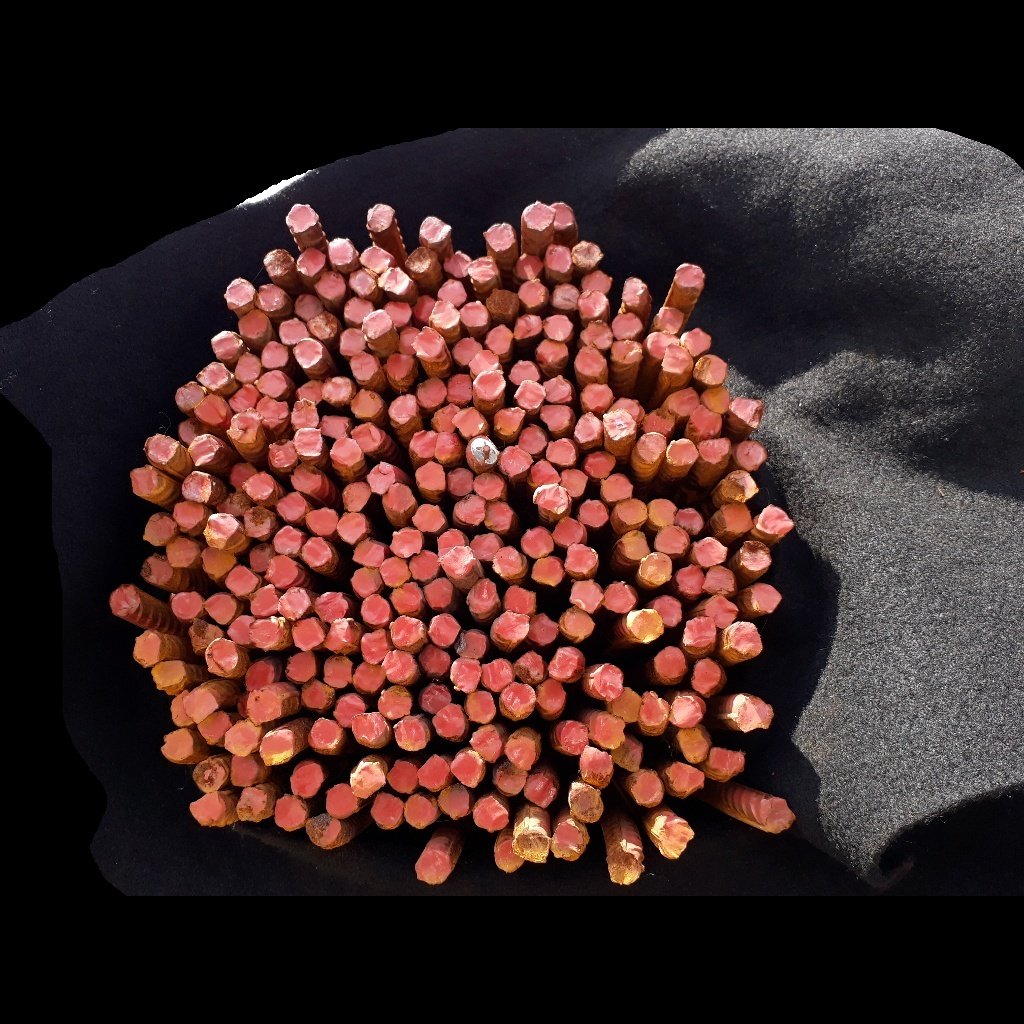dipstick: (736, 694, 774, 732), (659, 818, 694, 859), (472, 795, 509, 833), (547, 645, 586, 681), (579, 748, 614, 787), (606, 687, 643, 723), (323, 617, 360, 653), (416, 753, 449, 793), (535, 676, 566, 718), (349, 761, 385, 797), (352, 712, 390, 746), (181, 689, 219, 723), (675, 727, 710, 763), (570, 579, 606, 614), (607, 850, 644, 884), (570, 786, 604, 823), (502, 680, 536, 716), (205, 513, 239, 549), (721, 469, 758, 502), (466, 576, 499, 613), (470, 724, 501, 763), (730, 621, 764, 656), (247, 691, 282, 725), (710, 745, 746, 778), (437, 784, 470, 820), (415, 852, 451, 885), (326, 782, 359, 818), (305, 813, 341, 846), (390, 615, 426, 648), (756, 503, 794, 534), (551, 822, 582, 860), (512, 832, 550, 863), (666, 761, 705, 791), (762, 798, 796, 832), (610, 738, 644, 772), (730, 395, 765, 428), (703, 595, 738, 628), (290, 763, 323, 798), (379, 685, 412, 720), (205, 638, 238, 673), (196, 711, 231, 744), (654, 644, 686, 680), (524, 773, 556, 809), (560, 608, 596, 640), (403, 794, 435, 830), (189, 794, 226, 825), (452, 750, 482, 788), (683, 615, 717, 648), (631, 609, 664, 643), (495, 610, 529, 643), (668, 696, 703, 728), (537, 339, 569, 374), (465, 435, 497, 470), (382, 649, 417, 681), (133, 628, 161, 668), (502, 583, 538, 614), (360, 628, 391, 664), (195, 362, 234, 390), (602, 581, 635, 614), (481, 499, 514, 532), (432, 704, 465, 737), (291, 618, 324, 651), (694, 354, 728, 386), (733, 439, 767, 471), (719, 501, 753, 533), (631, 773, 663, 807), (527, 611, 559, 645), (307, 718, 341, 750), (264, 556, 298, 588), (203, 593, 237, 625), (690, 658, 721, 693), (259, 734, 294, 765), (202, 546, 237, 577), (142, 515, 177, 546), (192, 394, 228, 424), (603, 408, 636, 440), (594, 715, 626, 748), (505, 737, 538, 769), (491, 546, 523, 579), (449, 658, 482, 690), (408, 549, 440, 582), (428, 613, 460, 646), (256, 396, 289, 428), (639, 553, 673, 584), (564, 543, 598, 574), (480, 657, 511, 691), (314, 591, 348, 622), (236, 787, 267, 821), (225, 564, 259, 595), (109, 583, 140, 617), (533, 483, 568, 513), (371, 794, 403, 826), (412, 326, 444, 358), (278, 587, 310, 619), (739, 540, 772, 571), (702, 564, 735, 595), (387, 761, 418, 794), (394, 719, 427, 750), (389, 582, 422, 613), (285, 202, 318, 233), (189, 433, 220, 466), (191, 761, 224, 792), (161, 729, 194, 760), (500, 446, 534, 476), (494, 838, 524, 872), (226, 413, 260, 443), (140, 554, 174, 584), (639, 691, 668, 726), (594, 664, 623, 699), (520, 527, 555, 556), (150, 661, 186, 689), (514, 378, 546, 409), (465, 691, 496, 723), (423, 577, 454, 609), (418, 645, 450, 676), (275, 795, 306, 827), (391, 526, 423, 557), (361, 308, 393, 339), (285, 651, 317, 682), (225, 725, 257, 756), (662, 342, 692, 375), (483, 222, 516, 252), (440, 546, 473, 576), (693, 537, 727, 566), (254, 369, 288, 398), (250, 583, 279, 617), (691, 404, 722, 435), (380, 556, 411, 587), (637, 432, 667, 464), (619, 531, 651, 561), (653, 594, 683, 626), (513, 652, 543, 684), (575, 347, 607, 377), (524, 201, 556, 231), (494, 406, 526, 436), (496, 762, 528, 792), (333, 695, 365, 725), (354, 662, 386, 692), (388, 393, 418, 425), (224, 278, 254, 310), (302, 536, 332, 568), (301, 679, 333, 709), (211, 330, 243, 360), (579, 320, 612, 349), (473, 370, 506, 399), (329, 437, 362, 466), (584, 451, 618, 479), (229, 382, 263, 410), (752, 582, 782, 613), (676, 564, 706, 595), (540, 402, 571, 432), (471, 531, 501, 562), (455, 495, 486, 525), (420, 683, 451, 713), (382, 483, 413, 513), (366, 463, 396, 494), (429, 298, 460, 328), (337, 511, 367, 542), (351, 388, 382, 418), (321, 376, 352, 406), (181, 472, 212, 502), (654, 525, 686, 554), (571, 240, 603, 269), (269, 439, 298, 471), (451, 407, 484, 435), (485, 288, 518, 316), (412, 504, 445, 532), (144, 435, 177, 463), (546, 437, 576, 467), (293, 338, 323, 368), (166, 537, 196, 567), (654, 305, 685, 334), (553, 516, 584, 545), (531, 557, 562, 586), (445, 466, 474, 497), (307, 311, 338, 340), (324, 656, 353, 687), (250, 618, 279, 649), (680, 328, 712, 356), (561, 721, 589, 753), (577, 290, 609, 318), (541, 375, 573, 403), (314, 271, 346, 299), (254, 284, 286, 312), (290, 464, 322, 492), (305, 506, 337, 534), (698, 436, 731, 463), (667, 389, 700, 416), (359, 246, 392, 273), (352, 541, 386, 567), (579, 498, 609, 527), (452, 337, 482, 366), (431, 404, 461, 433), (415, 461, 445, 490), (351, 423, 381, 452), (293, 427, 323, 456), (176, 381, 205, 411), (130, 467, 160, 496), (611, 312, 642, 340), (543, 313, 574, 341), (469, 256, 500, 284), (415, 378, 446, 406), (276, 493, 307, 521), (243, 472, 274, 500), (173, 501, 204, 529), (666, 438, 698, 465), (581, 382, 613, 409), (455, 631, 487, 658), (445, 374, 472, 406), (419, 216, 451, 243), (295, 248, 327, 275), (647, 331, 680, 357), (377, 268, 410, 294), (171, 689, 194, 726), (366, 203, 395, 232), (342, 483, 371, 512), (610, 397, 645, 421), (273, 526, 303, 554), (246, 661, 274, 691), (509, 358, 540, 385), (474, 471, 505, 498), (434, 432, 461, 463), (234, 352, 261, 383), (602, 474, 634, 500), (550, 283, 582, 309), (702, 385, 730, 414), (648, 498, 676, 527), (517, 280, 546, 308), (518, 424, 547, 452), (485, 324, 513, 353), (437, 279, 466, 307), (350, 351, 378, 380), (264, 250, 293, 278), (513, 253, 543, 280), (385, 352, 415, 379), (292, 399, 319, 429), (227, 614, 254, 644), (622, 277, 648, 308), (343, 298, 375, 323), (278, 318, 310, 343), (560, 468, 588, 496), (349, 268, 377, 296), (239, 310, 267, 338), (261, 340, 290, 367), (230, 462, 257, 491), (244, 506, 270, 536), (444, 250, 471, 278), (339, 328, 367, 355), (545, 245, 571, 274), (514, 313, 543, 339), (459, 301, 488, 327), (437, 529, 466, 555), (329, 237, 355, 266), (294, 294, 323, 320), (674, 507, 704, 532), (617, 498, 647, 523), (549, 201, 574, 231), (320, 414, 350, 439), (231, 756, 256, 786), (642, 411, 676, 433), (409, 430, 435, 458), (575, 412, 600, 441), (611, 341, 642, 364), (581, 270, 612, 292), (412, 295, 436, 323), (470, 350, 500, 372), (676, 263, 703, 287), (296, 381, 324, 404), (385, 302, 411, 326), (250, 543, 271, 572), (405, 248, 431, 271), (399, 326, 420, 354), (179, 418, 201, 443), (238, 694, 249, 717)
